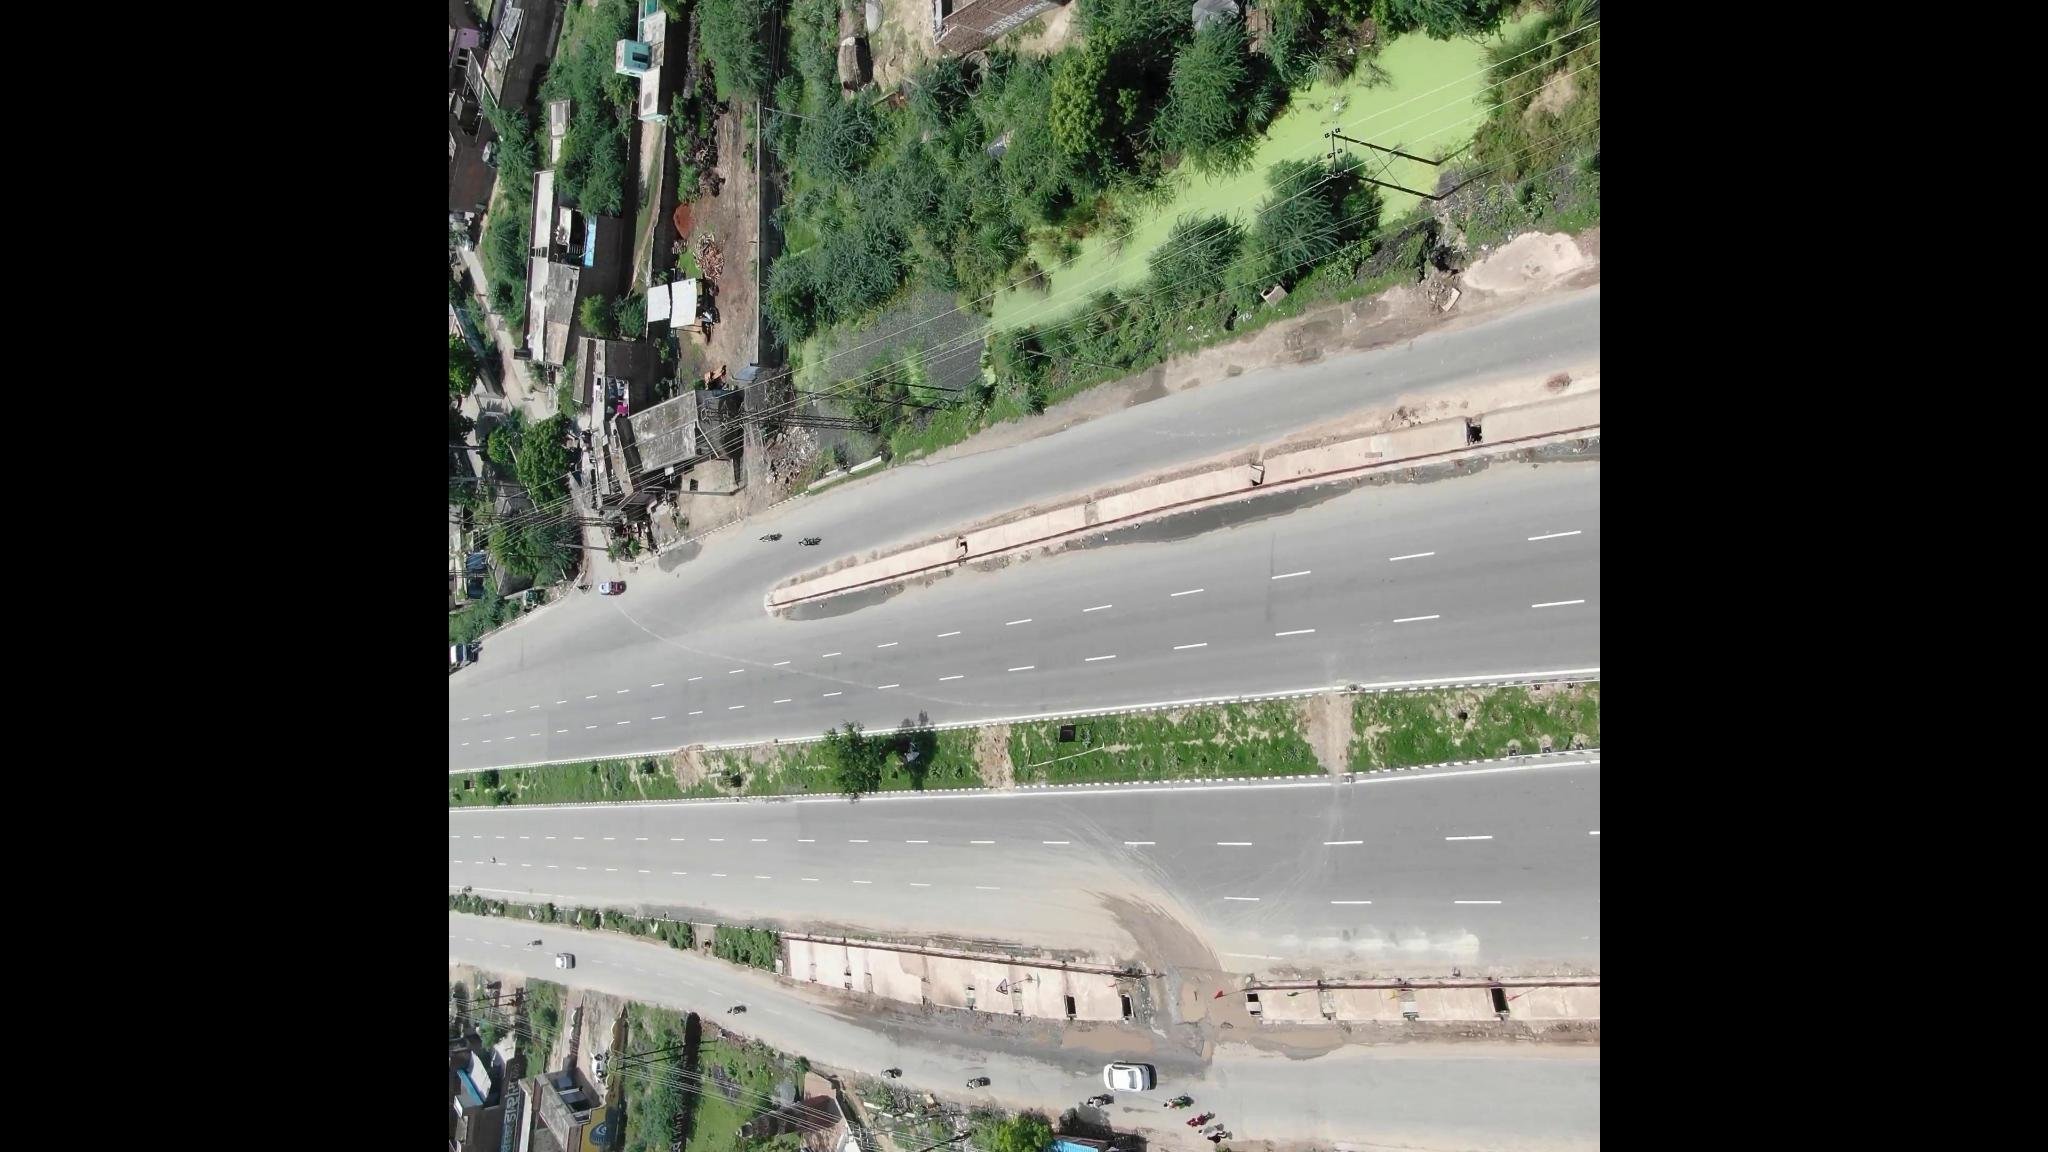Potholes: (1172, 978, 1208, 1035)
Waterlogging: (1049, 1028, 1153, 1058), (1250, 1025, 1355, 1054)
